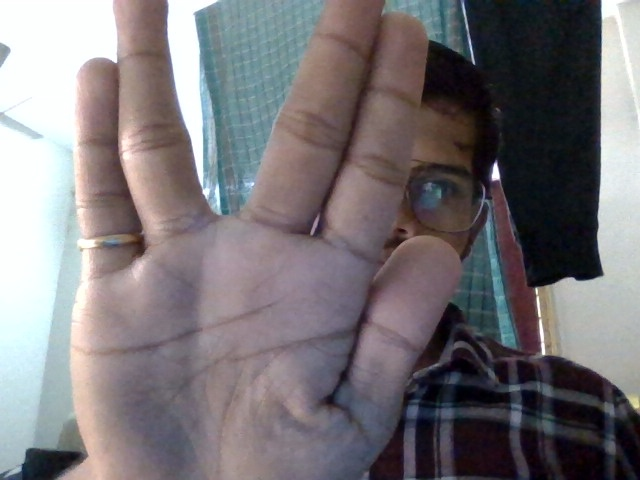LiveLong: (77, 1, 461, 476)
